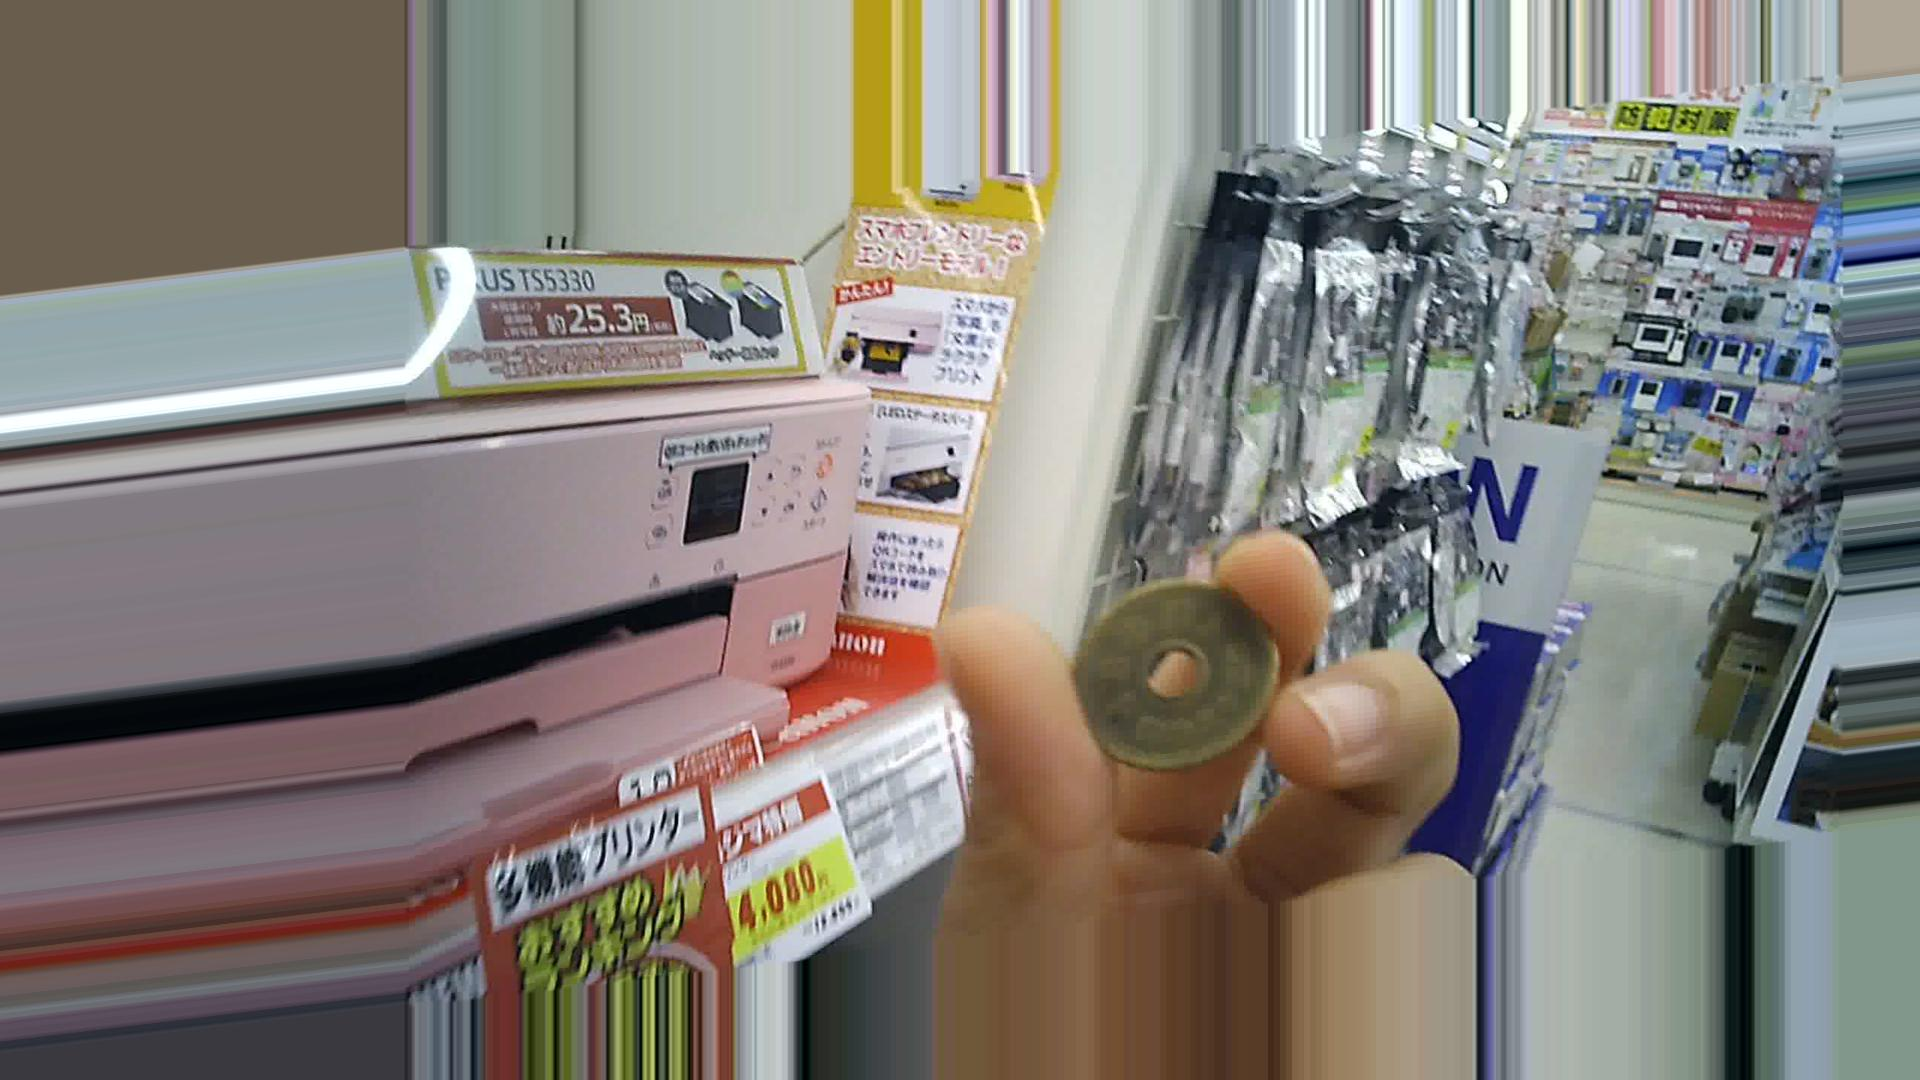5 Yen: (1056, 564, 1265, 770)
